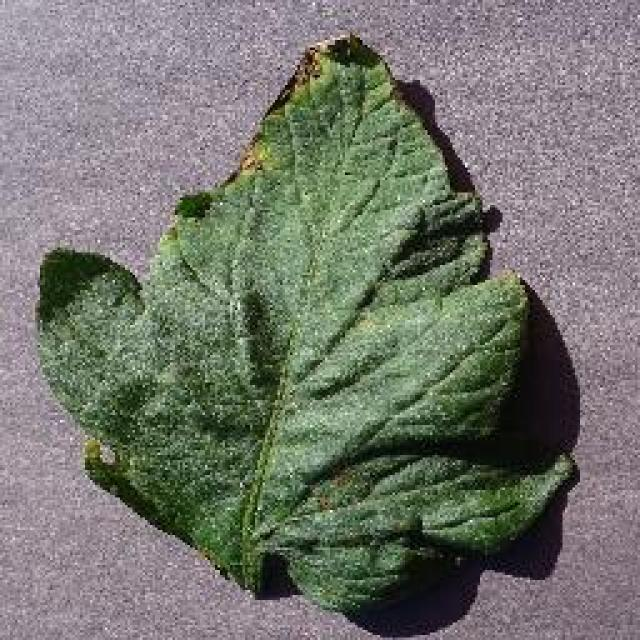Tomato Septoria spot leaf: (38, 35, 572, 613)
